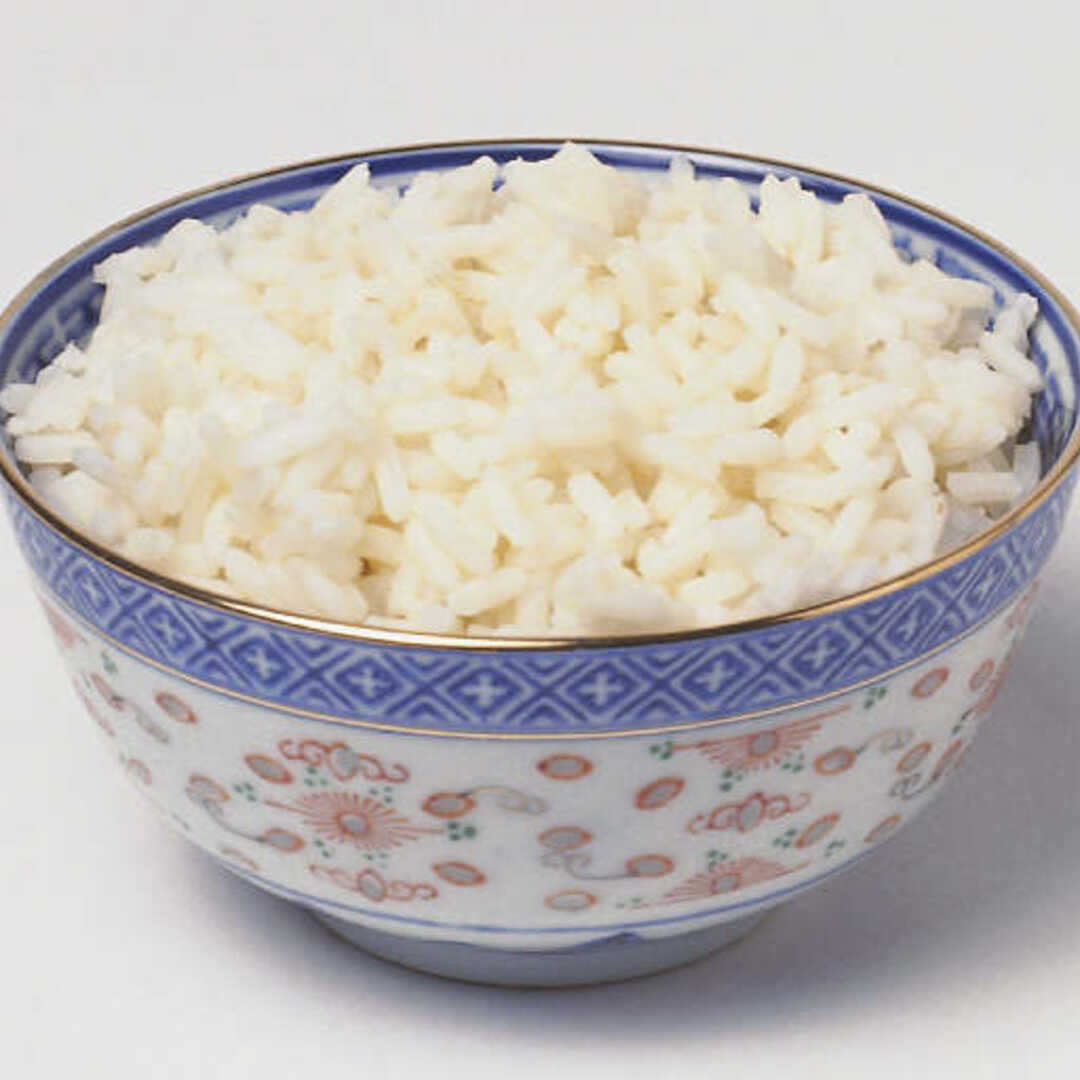Nasi Putih: (38, 141, 1044, 713)
